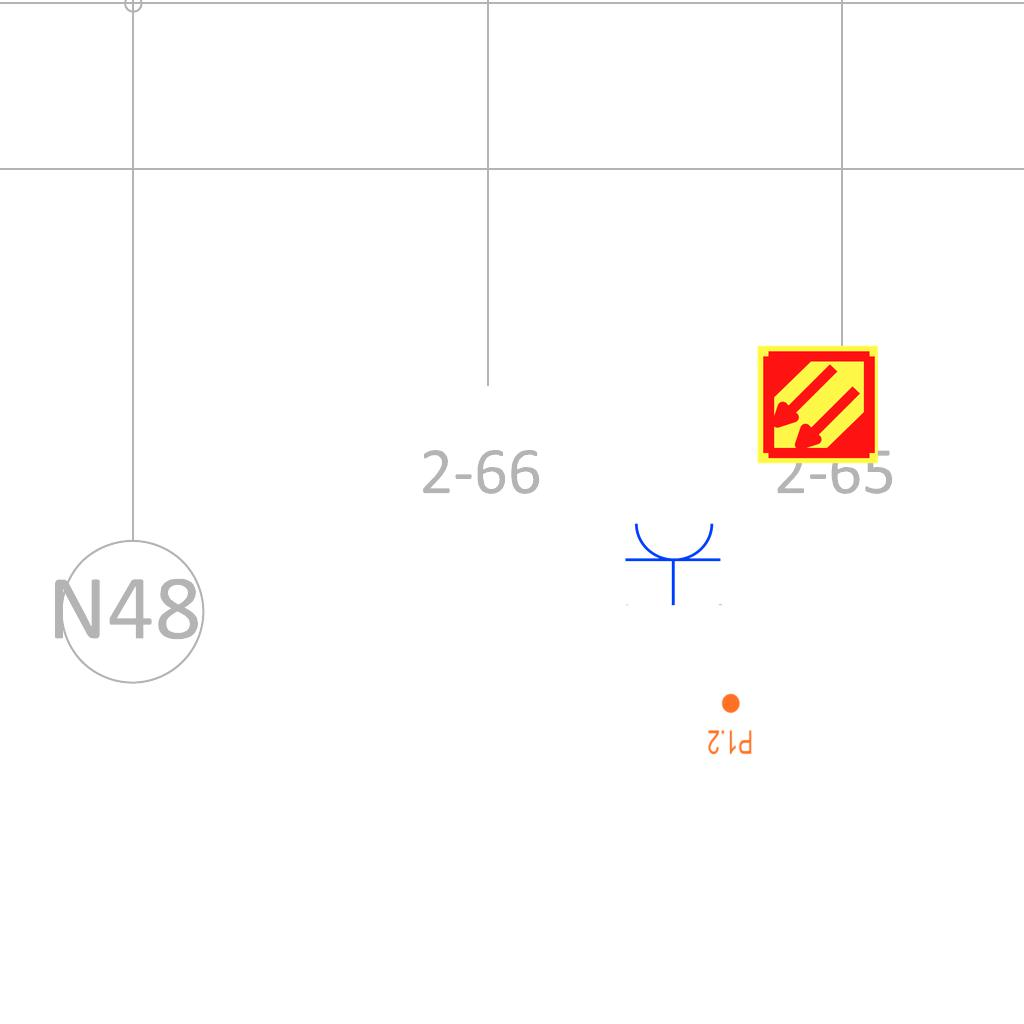ASR_Ansaugrauchmelder: (755, 342, 880, 467)
Downlight_LED_Einbauleuchten_Flur: (707, 692, 753, 756)
Schukosteckdose_einfach: (624, 519, 724, 606)
